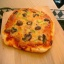olives: (21, 31, 34, 43), (6, 26, 18, 36), (37, 34, 49, 44), (14, 20, 25, 28), (30, 12, 41, 20), (34, 24, 43, 33), (43, 17, 52, 26), (20, 12, 29, 21), (25, 20, 35, 27)
pizza: (5, 8, 55, 54)
